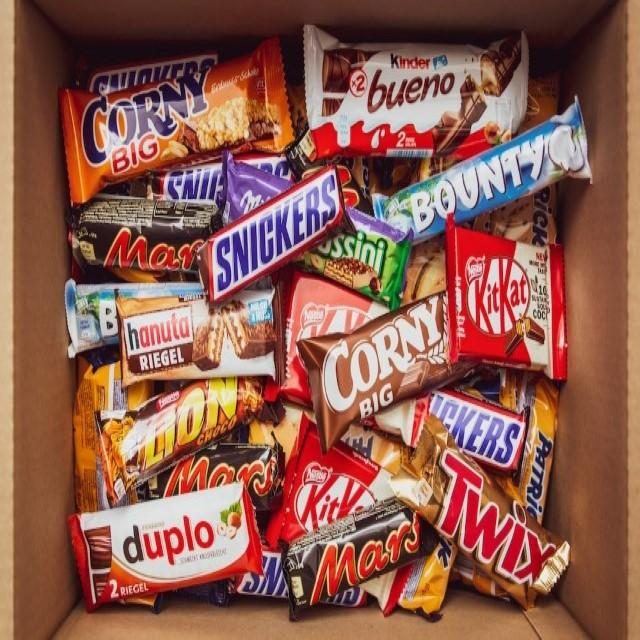kitkat_chocolate: (445, 238, 565, 367), (286, 452, 392, 522)
mars_chocolate: (84, 188, 194, 270), (292, 520, 422, 582), (150, 453, 288, 495)
snickers_chocolate: (203, 177, 332, 283)
